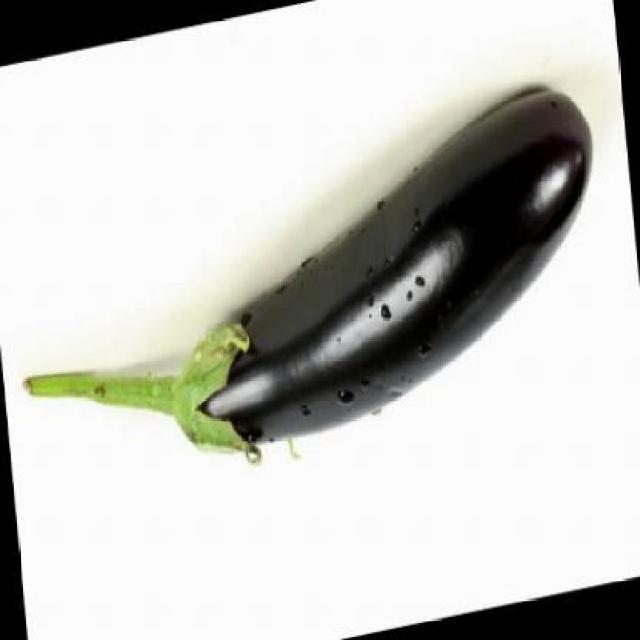eggplant: (4, 76, 604, 472)
